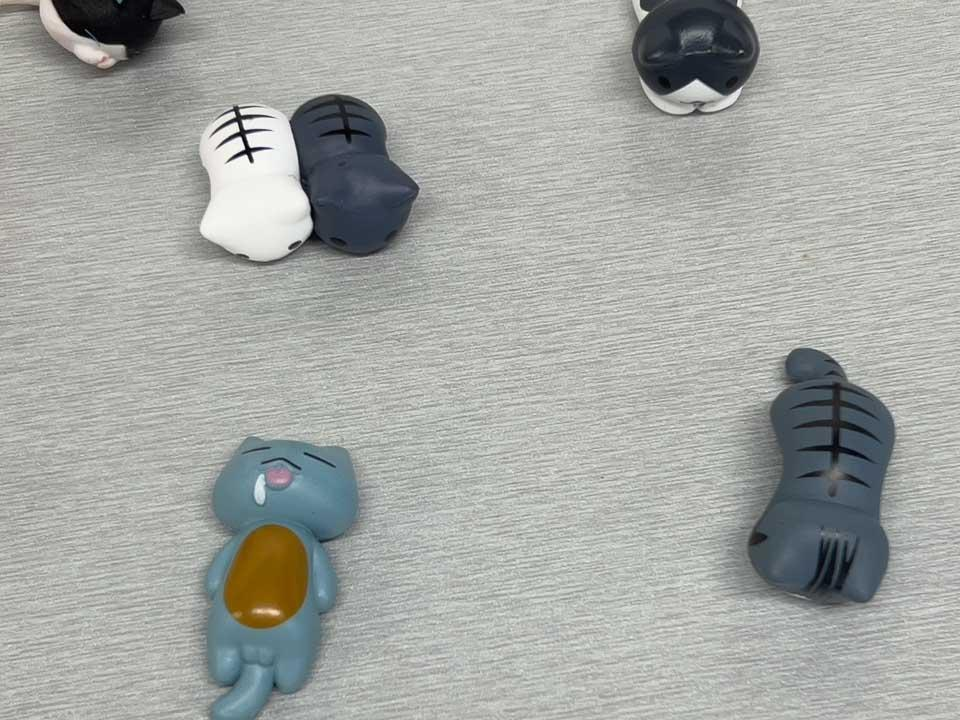pet: (199, 433, 359, 720), (745, 345, 900, 607), (197, 95, 419, 262), (624, 0, 764, 115), (0, 0, 191, 73)
